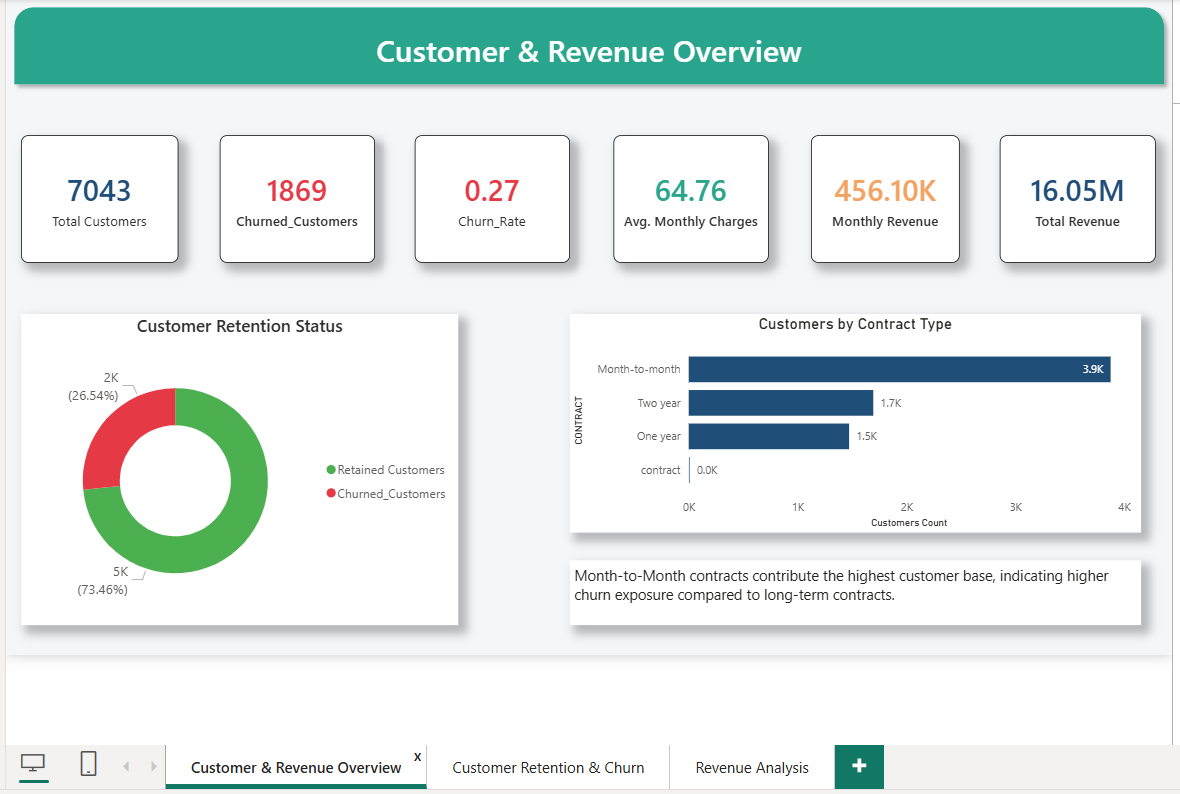

The dashboard page shown, as its layout file describes it:
{"tool":"powerbi","page":{"name":"Customer & Revenue Overview","canvas":[1280,720],"ordinal":0},"visuals":[{"type":"card","fields":{"Values":["DIM_CONTRACT.Total Customers"]},"box":[16.5,149.6,172.9,140],"z":0},{"type":"card","fields":{"Values":["DIM_CONTRACT.Churn_Rate"]},"box":[448.7,149.6,170.2,140],"z":1000},{"type":"card","fields":{"Values":["DIM_CONTRACT.Avg. Monthly Charges"]},"box":[666.9,149.6,170.2,140],"z":2000},{"type":"card","fields":{"Values":["DIM_CONTRACT.Monthly Revenue"]},"box":[883.7,149.6,163.3,140],"z":3000},{"type":"card","fields":{"Values":["DIM_CONTRACT.Churned_Customers"]},"box":[234.6,149.6,170.2,140],"z":4000},{"type":"card","fields":{"Values":["DIM_CONTRACT.Total Revenue"]},"box":[1090.9,149.6,171.5,140],"z":5000},{"type":"donutChart","title":"Customer Retention Status","fields":{"Y":["DIM_CONTRACT.Retained Customers","DIM_CONTRACT.Churned_Customers"]},"box":[16.5,345.8,480.3,341.7],"z":6000},{"type":"clusteredBarChart","title":"Customers by Contract Type","fields":{"Category":["DIM_CONTRACT.CONTRACT"],"Y":["DIM_CONTRACT.Customers Count"]},"box":[618.9,345.8,627.1,240.1],"z":7000},{"type":"shape","box":[0,0,1280.3,102.9],"z":8000},{"type":"textbox","box":[618.9,616.1,627.1,71.4],"z":9000}]}

Visuals, with their boxes on the page's 1280x720 design canvas (x1, y1, x2, y2). These are canvas units, not pixel positions in the 1180x794 screenshot, which may show the page scaled, cropped or inside an application window:
card - DIM_CONTRACT.Total Customers: crop(16, 150, 189, 290)
card - DIM_CONTRACT.Churn_Rate: crop(449, 150, 619, 290)
card - DIM_CONTRACT.Avg. Monthly Charges: crop(667, 150, 837, 290)
card - DIM_CONTRACT.Monthly Revenue: crop(884, 150, 1047, 290)
card - DIM_CONTRACT.Churned_Customers: crop(235, 150, 405, 290)
card - DIM_CONTRACT.Total Revenue: crop(1091, 150, 1262, 290)
"Customer Retention Status" donutChart: crop(16, 346, 497, 688)
"Customers by Contract Type" clusteredBarChart: crop(619, 346, 1246, 586)
shape: crop(0, 0, 1280, 103)
textbox: crop(619, 616, 1246, 688)
